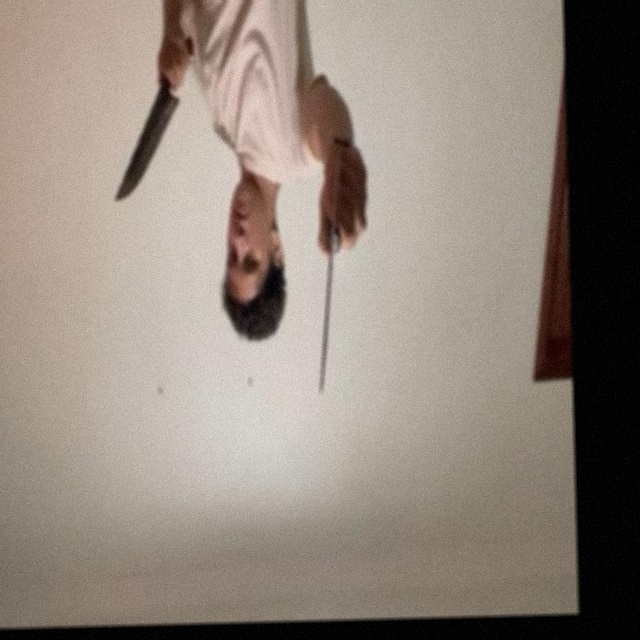Sharp-Object: (111, 99, 181, 204)
